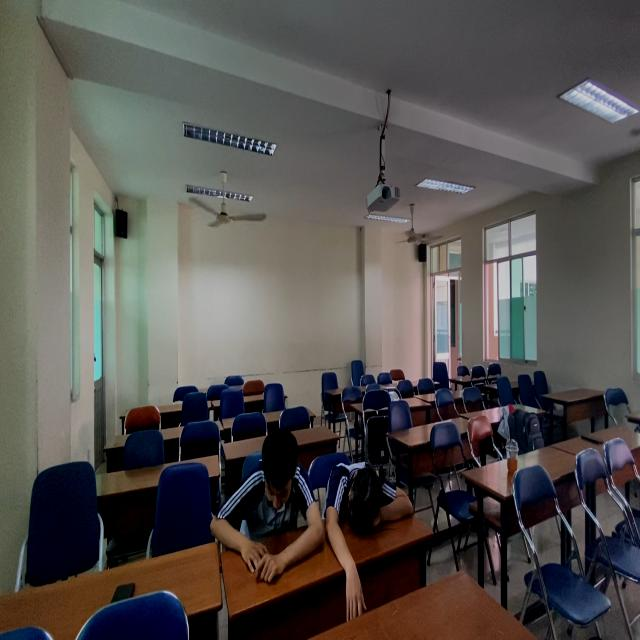sleep: (322, 441, 417, 555)
